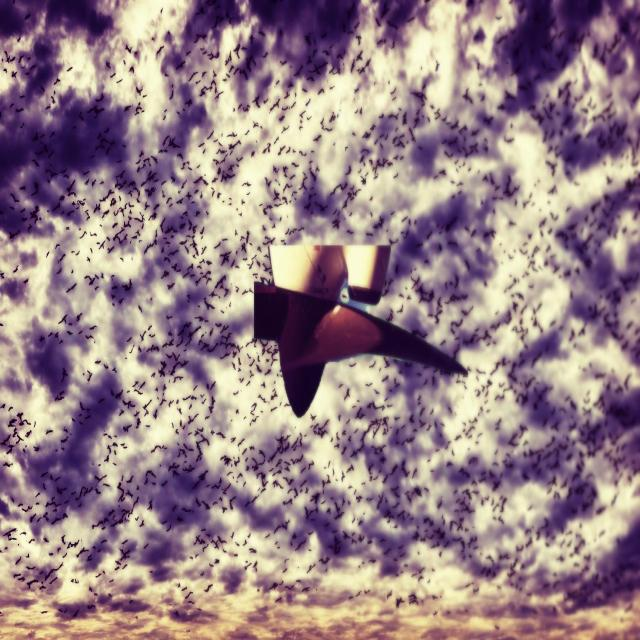airplane: (253, 242, 468, 418)
